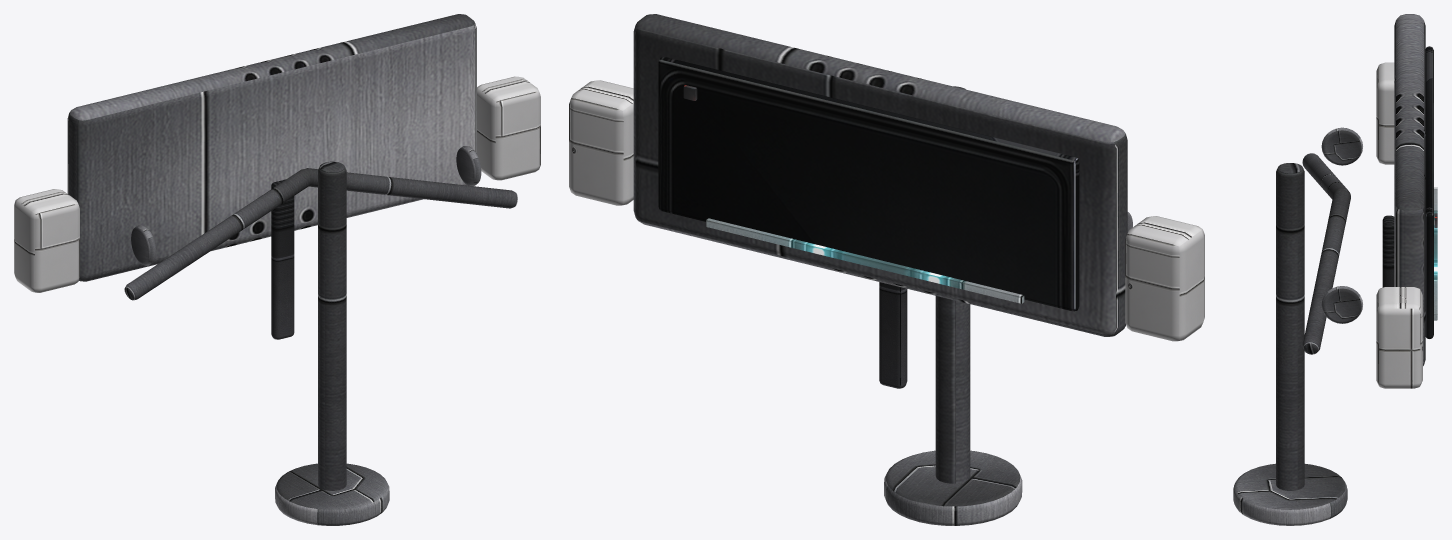
Rendered from hp_l4_cineclinic_monitor_arm.glb.
The picture shows the model from 3 angles, left to right: view 1: azimuth 30°, elevation 25°; view 2: azimuth 150°, elevation 25°; view 3: azimuth 270°, elevation 25°; orthographic projection. The views are drawn at different scales.
Visible parts, largest first — view 1: screen_frame, floor_spine, white_side_module_l, white_side_module_r, floor_base_wide_plate, left_joint_arm, right_joint_arm, rear_cable_spine, left_joint_disk, right_joint_disk; view 2: runtime_screen_surface, screen_frame, white_side_module_l, floor_base_wide_plate, white_side_module_r, floor_spine, screen_cyan_footer, rear_cable_spine; view 3: floor_spine, screen_frame, floor_base_wide_plate, white_side_module_r, right_joint_arm, runtime_screen_surface, white_side_module_l, left_joint_disk, right_joint_disk, rear_cable_spine, left_joint_arm, screen_cyan_footer.
Boxes of the visible parts, <box> form: screen_frame: <box>67,14,476,281</box>; floor_spine: <box>318,161,346,490</box>; white_side_module_l: <box>14,189,79,292</box>; white_side_module_r: <box>477,76,540,180</box>; floor_base_wide_plate: <box>275,463,389,525</box>; left_joint_arm: <box>124,169,310,300</box>; right_joint_arm: <box>305,168,517,208</box>; rear_cable_spine: <box>271,179,294,339</box>; left_joint_disk: <box>131,225,155,265</box>; right_joint_disk: <box>456,146,481,186</box>; runtime_screen_surface: <box>658,57,1079,311</box>; screen_frame: <box>633,14,1127,336</box>; white_side_module_l: <box>1125,216,1204,341</box>; floor_base_wide_plate: <box>884,450,1022,525</box>; white_side_module_r: <box>569,80,633,205</box>; floor_spine: <box>935,86,970,483</box>; screen_cyan_footer: <box>706,218,1024,303</box>; rear_cable_spine: <box>879,282,907,388</box>; floor_spine: <box>1276,163,1304,490</box>; screen_frame: <box>1394,14,1425,365</box>; floor_base_wide_plate: <box>1233,463,1347,525</box>; white_side_module_r: <box>1376,287,1422,388</box>; right_joint_arm: <box>1302,189,1350,354</box>; runtime_screen_surface: <box>1425,46,1433,338</box>; white_side_module_l: <box>1376,62,1394,164</box>; left_joint_disk: <box>1321,127,1362,165</box>; right_joint_disk: <box>1321,286,1362,323</box>; rear_cable_spine: <box>1382,215,1394,287</box>; left_joint_arm: <box>1302,153,1350,199</box>; screen_cyan_footer: <box>1434,187,1437,320</box>.
Size of the model in its own units: 2.26 by 1.68 by 0.787.
Materials: 6 (6 with a texture image).
